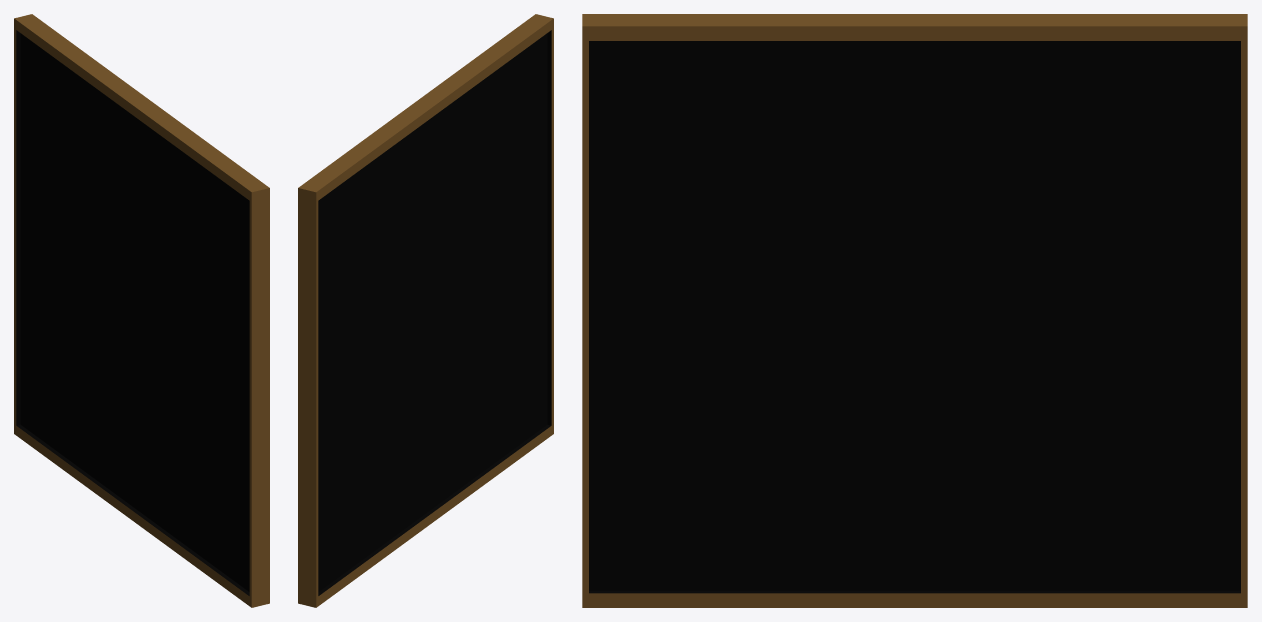
The model's file is BackBoard_Answer.fbx.
3 renders of one model, left to right at view 1: azimuth 30°, elevation 25°; view 2: azimuth 150°, elevation 25°; view 3: azimuth 270°, elevation 25°, orthographic. The views are drawn at different scales.
Parts seen in each view (by area): view 1: BackBoard_Answer; view 2: BackBoard_Answer; view 3: BackBoard_Answer.
Part boxes in pixels (<box>): BackBoard_Answer: <box>14,14,269,607</box>; BackBoard_Answer: <box>298,14,553,607</box>; BackBoard_Answer: <box>582,14,1247,607</box>.
Bounding box in the file's own units: 456 × 20 × 440.
